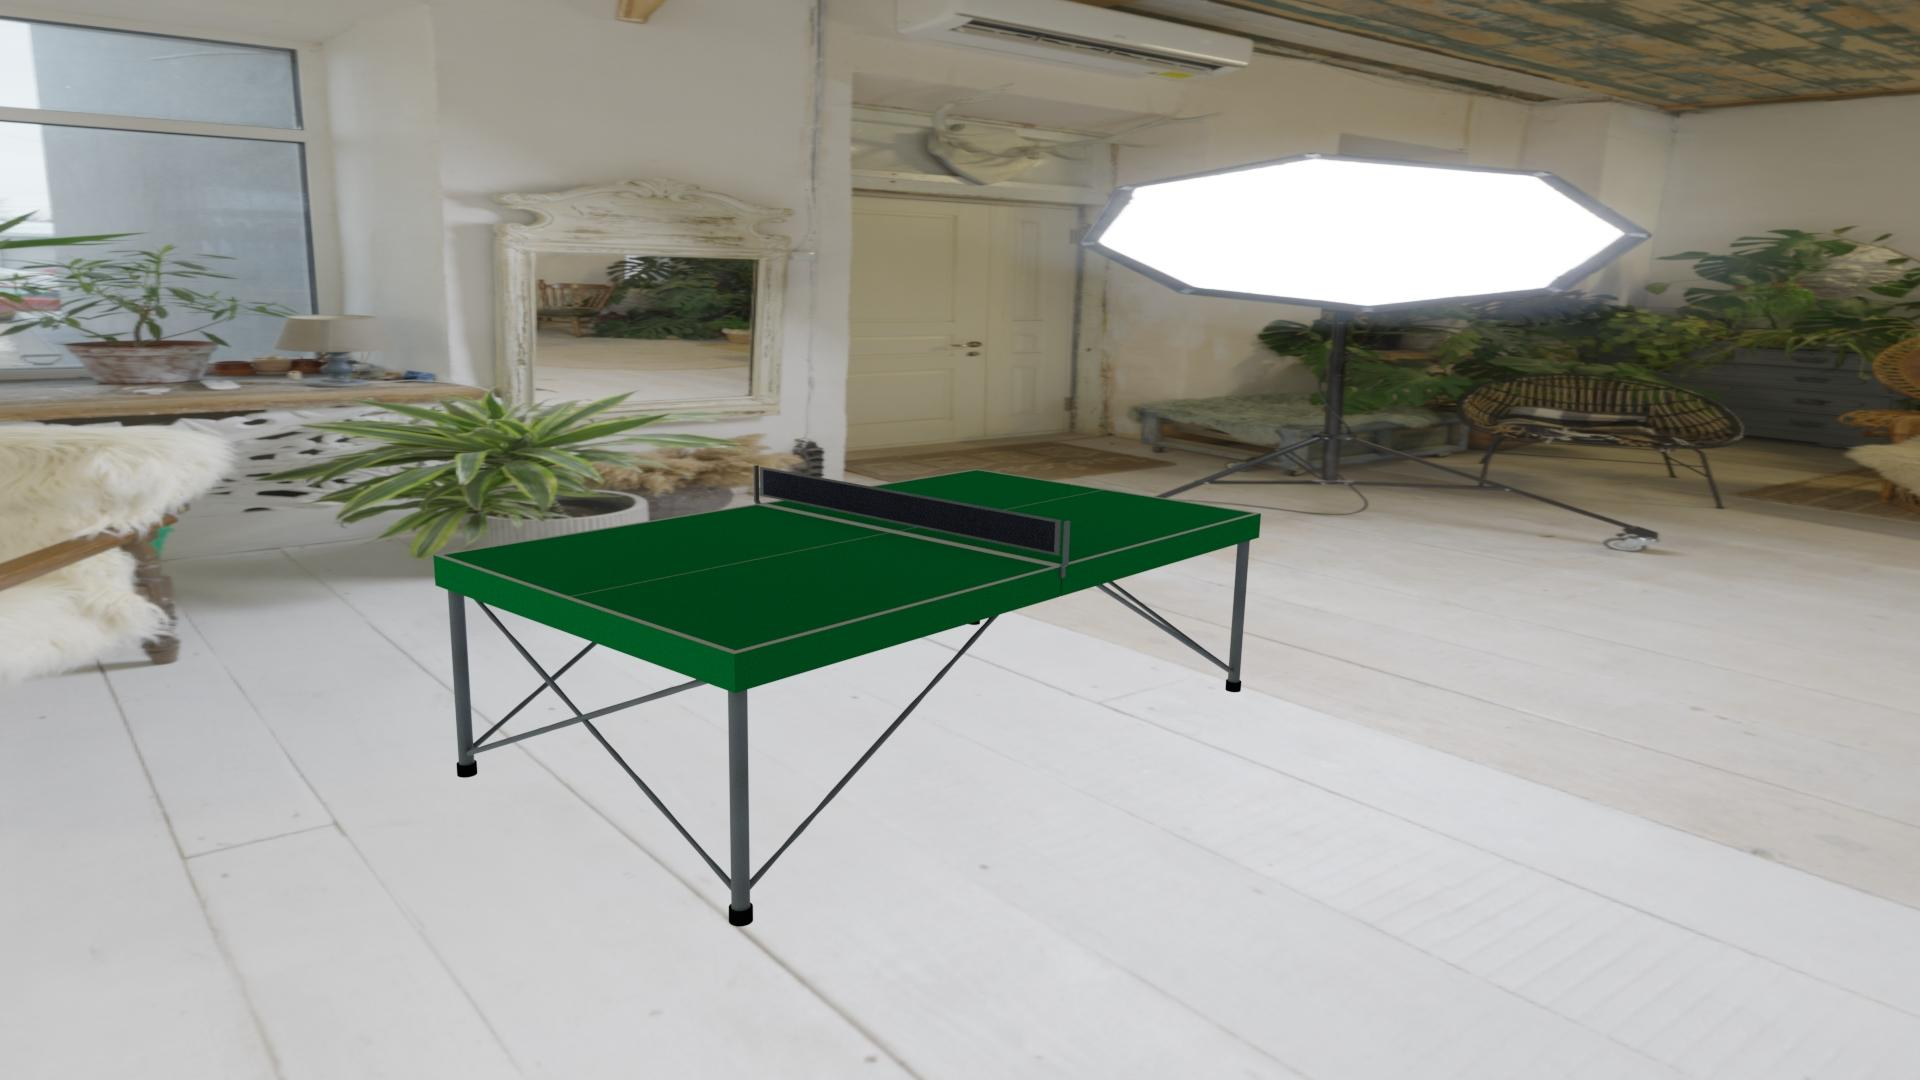table: (442, 469, 1254, 650)
